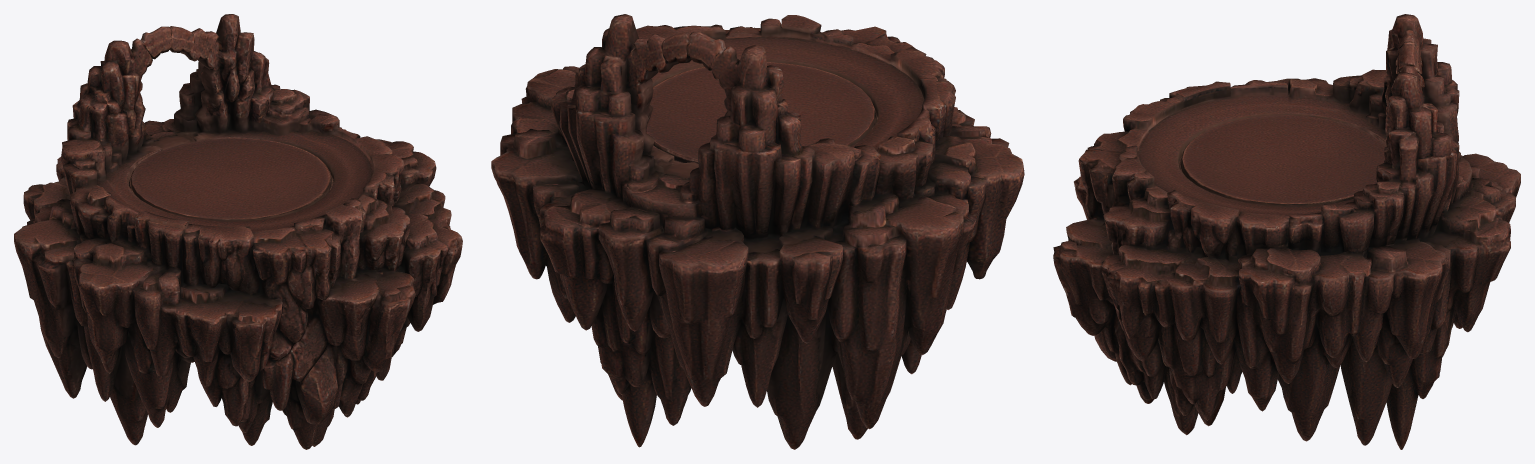
File: rocky+circular+pedestal+3d+model.fbx
3 views of the same model, side by side, from view 1: azimuth 30°, elevation 25°; view 2: azimuth 150°, elevation 25°; view 3: azimuth 270°, elevation 25° (orthographic). The views are drawn at different scales.
Parts seen in each view (by area): view 1: tripo_9d859858_9965_433c_ab5a_67d9d84352b9; view 2: tripo_9d859858_9965_433c_ab5a_67d9d84352b9; view 3: tripo_9d859858_9965_433c_ab5a_67d9d84352b9.
Boxes of the visible parts, x1,y1,x2,y2 form: tripo_9d859858_9965_433c_ab5a_67d9d84352b9: (14, 14, 462, 449); tripo_9d859858_9965_433c_ab5a_67d9d84352b9: (491, 14, 1024, 449); tripo_9d859858_9965_433c_ab5a_67d9d84352b9: (1053, 14, 1520, 449).
Bounding box in the file's own units: 0.9995 × 0.8999 × 0.9897.
Materials: 1 (1 with a texture image).
